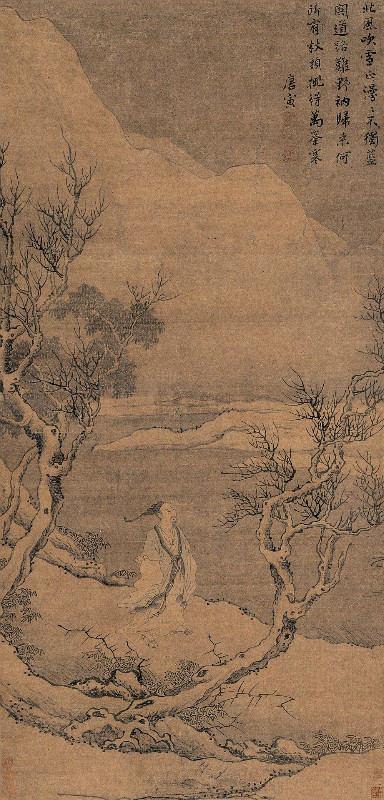grass: (15, 650, 118, 678), (157, 776, 270, 798), (311, 735, 384, 757), (15, 705, 67, 733)
man: (127, 505, 200, 639)
mountain: (101, 150, 369, 298), (1, 8, 142, 137), (166, 314, 353, 372)
tree: (4, 189, 45, 604), (43, 172, 75, 531), (328, 387, 384, 539), (73, 311, 160, 398), (232, 441, 302, 533), (84, 716, 193, 749), (305, 394, 325, 572), (100, 683, 187, 720), (65, 161, 98, 255), (276, 542, 301, 642), (188, 667, 231, 699), (233, 644, 285, 664), (313, 567, 330, 594)
